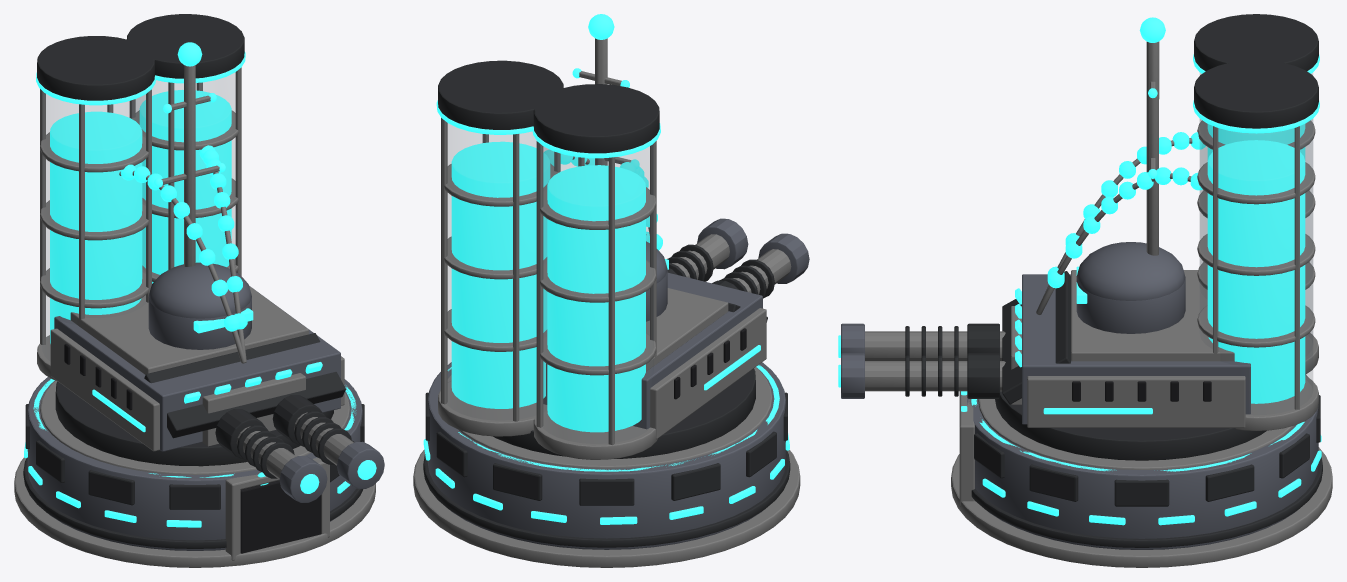
Rendered from Machinegoon_T2.glb.
The picture shows the model from 3 angles, left to right: view 1: azimuth 30°, elevation 25°; view 2: azimuth 150°, elevation 25°; view 3: azimuth 270°, elevation 25°; orthographic projection. The views are drawn at different scales.
Visible parts, largest first — view 1: Machinegoon_T2_Turret, Machinegoon_T2_Base; view 2: Machinegoon_T2_Turret, Machinegoon_T2_Base; view 3: Machinegoon_T2_Turret, Machinegoon_T2_Base.
Boxes of the visible parts, left/top/right/bottom form: Machinegoon_T2_Turret: left=36, top=14, right=384, bottom=502; Machinegoon_T2_Base: left=14, top=377, right=375, bottom=567; Machinegoon_T2_Turret: left=436, top=14, right=809, bottom=459; Machinegoon_T2_Base: left=413, top=362, right=800, bottom=567; Machinegoon_T2_Turret: left=838, top=14, right=1319, bottom=460; Machinegoon_T2_Base: left=951, top=374, right=1332, bottom=567.
Bounding box in the file's own units: 3.5 × 4.75 × 4.54.
